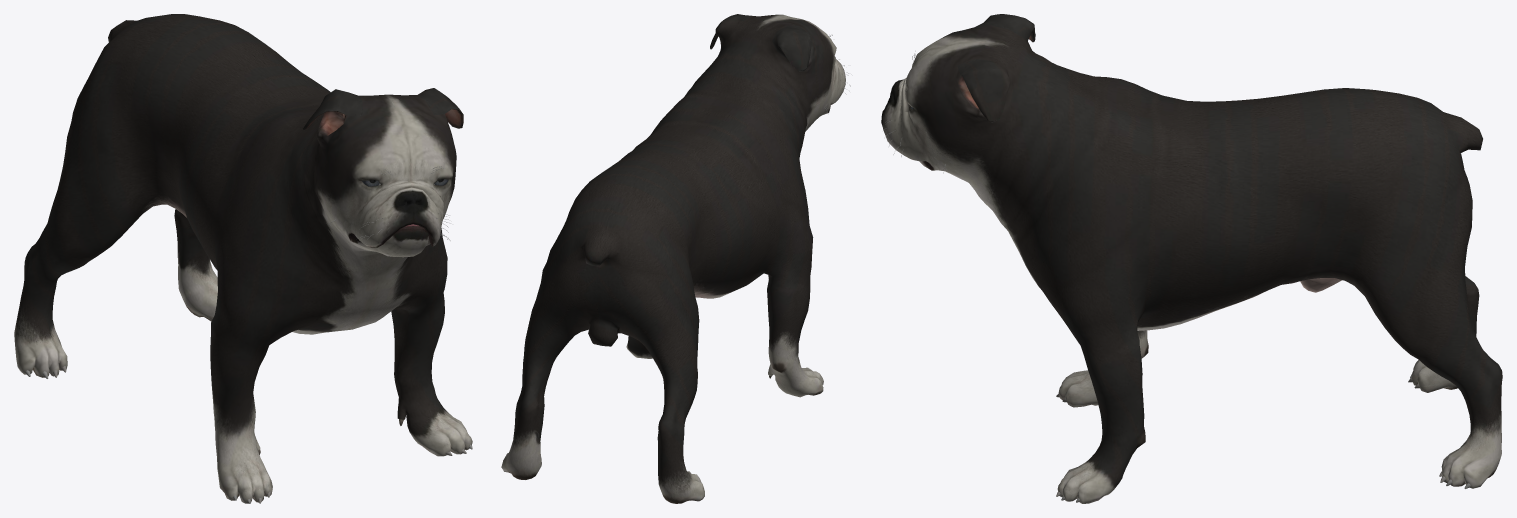
File: Bulldog.fbx
3 views of the same model, side by side, from view 1: azimuth 30°, elevation 25°; view 2: azimuth 150°, elevation 25°; view 3: azimuth 270°, elevation 25° (orthographic). The views are drawn at different scales.
Parts seen in each view (by area): view 1: EnglishBulldog_by_AlexLashko_FreeSample; view 2: EnglishBulldog_by_AlexLashko_FreeSample; view 3: EnglishBulldog_by_AlexLashko_FreeSample.
Boxes of the visible parts, x1,y1,x2,y2 form: EnglishBulldog_by_AlexLashko_FreeSample: [14, 14, 472, 503]; EnglishBulldog_by_AlexLashko_FreeSample: [501, 14, 850, 503]; EnglishBulldog_by_AlexLashko_FreeSample: [881, 14, 1502, 503].
Bounding box in the file's own units: 9.26 × 13.63 × 18.62.
Materials: 1 (1 with a texture image).
